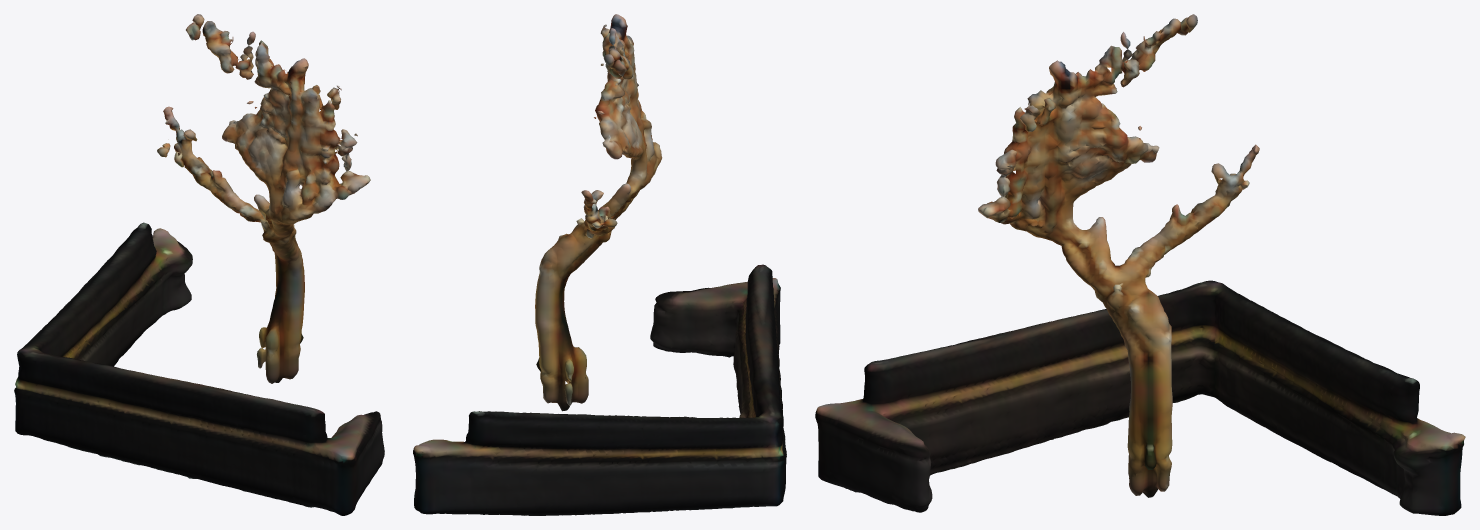
Rendered from manifested_artifact.glb.
3 views of the same model, side by side, from view 1: azimuth 30°, elevation 25°; view 2: azimuth 150°, elevation 25°; view 3: azimuth 270°, elevation 25° (orthographic). The views are drawn at different scales.
Parts seen in each view (by area): view 1: mesh; view 2: mesh; view 3: mesh.
Part boxes in pixels (left/top/right/bottom): mesh: left=14, top=14, right=384, bottom=515; mesh: left=413, top=14, right=786, bottom=515; mesh: left=815, top=14, right=1465, bottom=515.
Bounding box in the file's own units: 0.7889 × 1.14 × 1.4.
